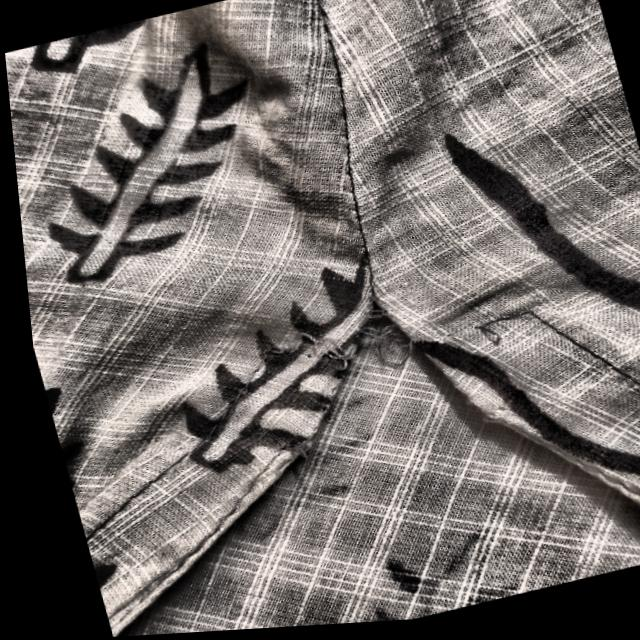Stitch: (187, 298, 419, 422), (421, 279, 568, 377)
